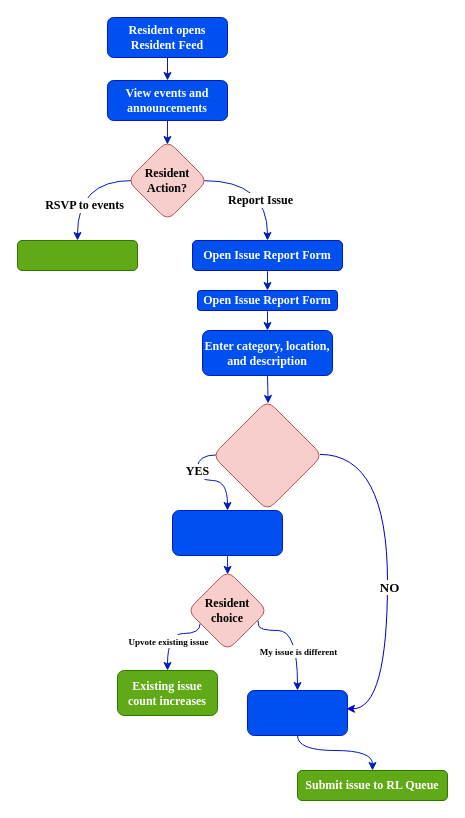
Image size: 465x818. Some labels were removed from this diagram. The shapes that lost their labels are listed below. From the top down, each one's box as (x1, y1, x2, y2) in pixels, then its label:
(16, 240, 138, 270): RSVP state updates
(212, 400, 322, 510): Similar issue already exists?
(172, 510, 282, 556): Duplicate issue warning shown
(246, 690, 348, 736): Continue new report
